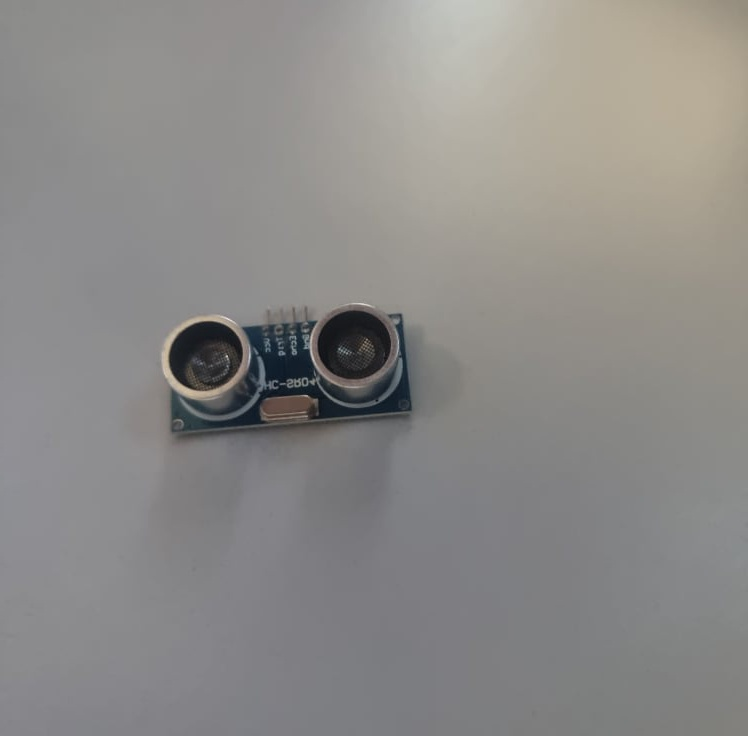SENSOR: (160, 300, 416, 435)
